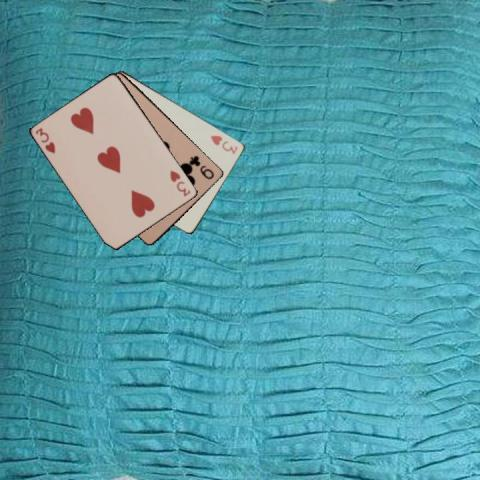3h: (167, 167, 192, 198), (208, 132, 240, 155), (33, 125, 56, 155)
9c: (187, 152, 216, 180)
